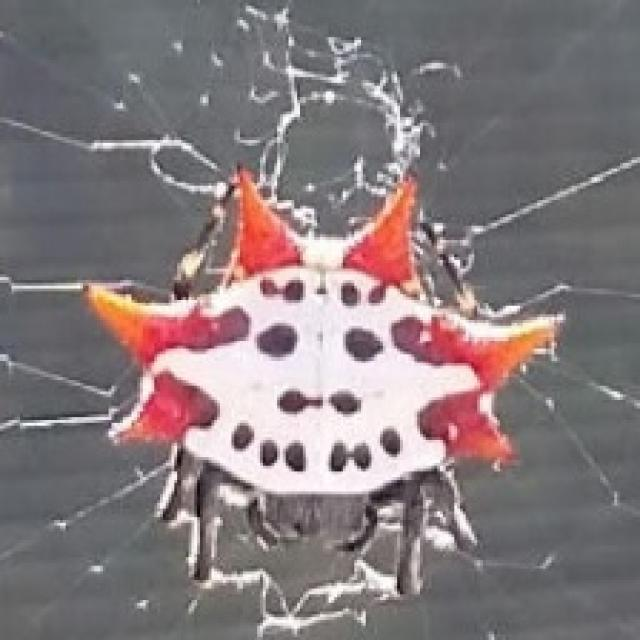Non venomous spider: (77, 169, 520, 579)
